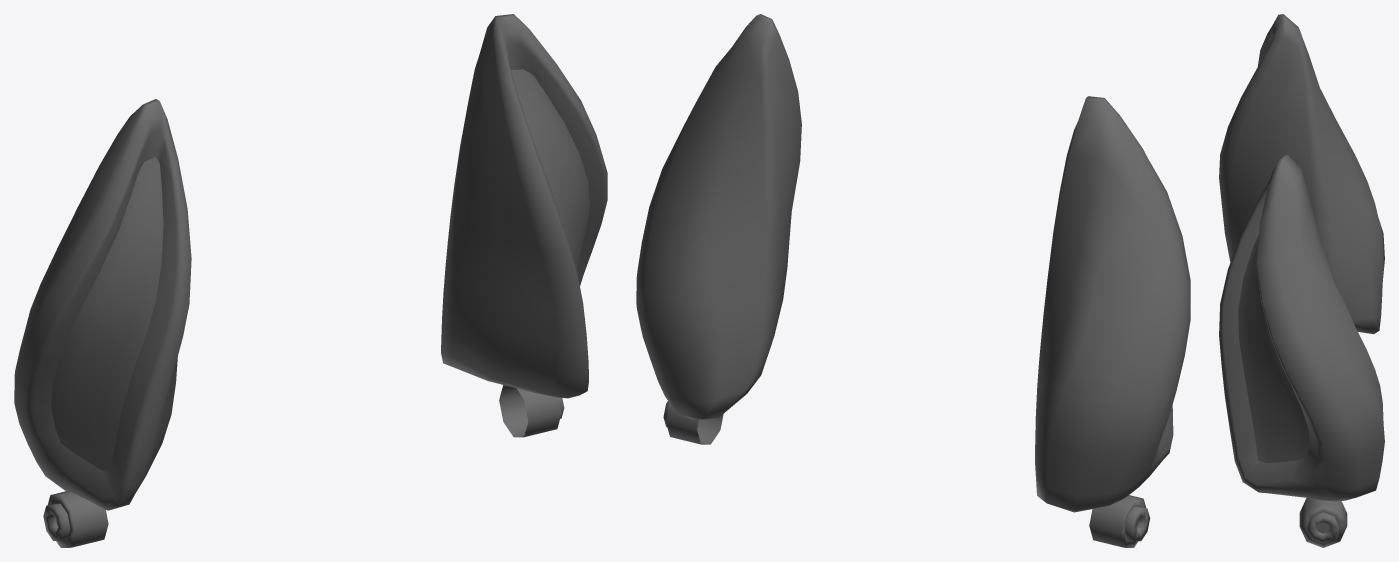
Rendered from Mule_low.fbx.
3 views of the same model, side by side, from view 1: azimuth 30°, elevation 25°; view 2: azimuth 150°, elevation 25°; view 3: azimuth 270°, elevation 25° (orthographic). The views are drawn at different scales.
Visible parts, largest first — view 1: Mule_low; view 2: Mule_low; view 3: Mule_low.
Part boxes in pixels (<box>): Mule_low: <box>14,14,607,547</box>; Mule_low: <box>636,14,1190,547</box>; Mule_low: <box>1219,14,1384,547</box>.
Bounding box in the file's own units: 94.1 × 70.73 × 29.24.
